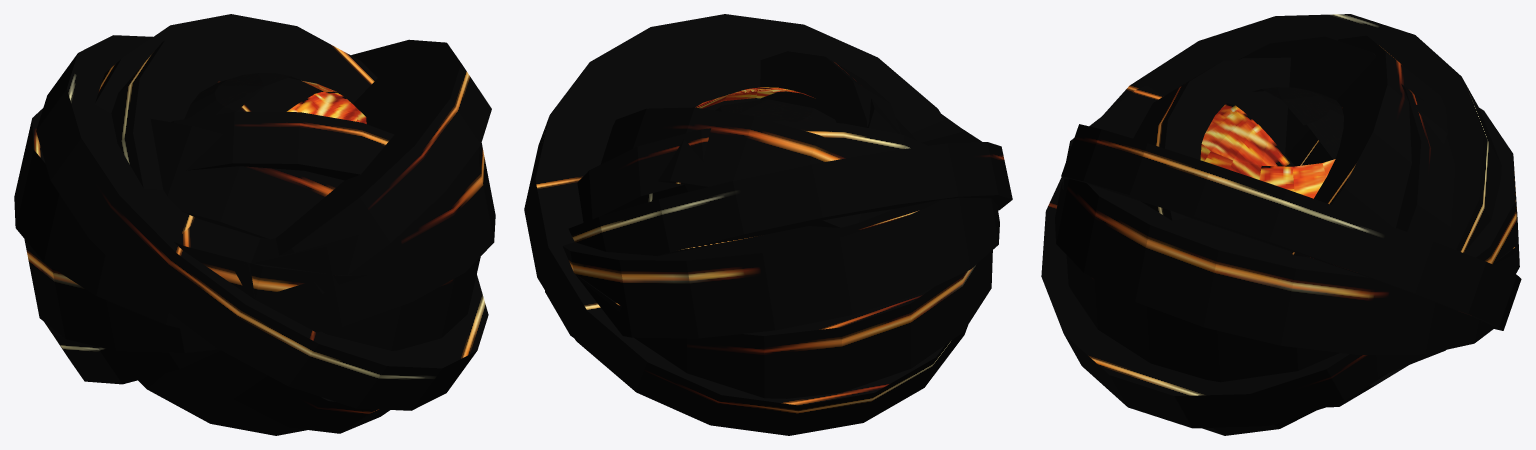
The model's file is frame_055.obj.
The picture shows the model from 3 angles, left to right: view 1: azimuth 30°, elevation 25°; view 2: azimuth 150°, elevation 25°; view 3: azimuth 270°, elevation 25°; orthographic projection. The views are drawn at different scales.
Visible parts, largest first — view 1: cylinder, sphere; view 2: cylinder, sphere; view 3: cylinder, sphere.
Part boxes in pixels (x1,y1,x2,y2): cylinder: [14, 14, 495, 435]; sphere: [184, 73, 366, 123]; cylinder: [524, 14, 1012, 435]; sphere: [695, 87, 836, 122]; cylinder: [1041, 14, 1521, 435]; sphere: [1200, 87, 1343, 198].
Size of the model in its own units: 1.07 by 0.8038 by 1.09.
5 materials, 5 textured.
